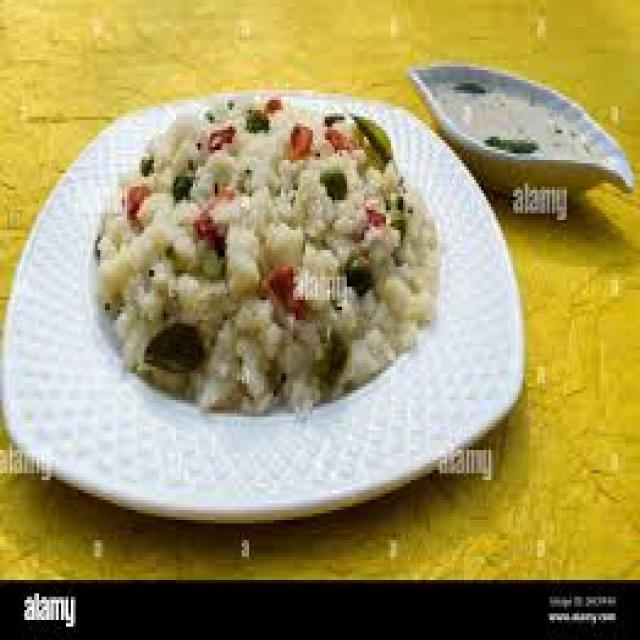UPMA: (93, 100, 435, 407)
